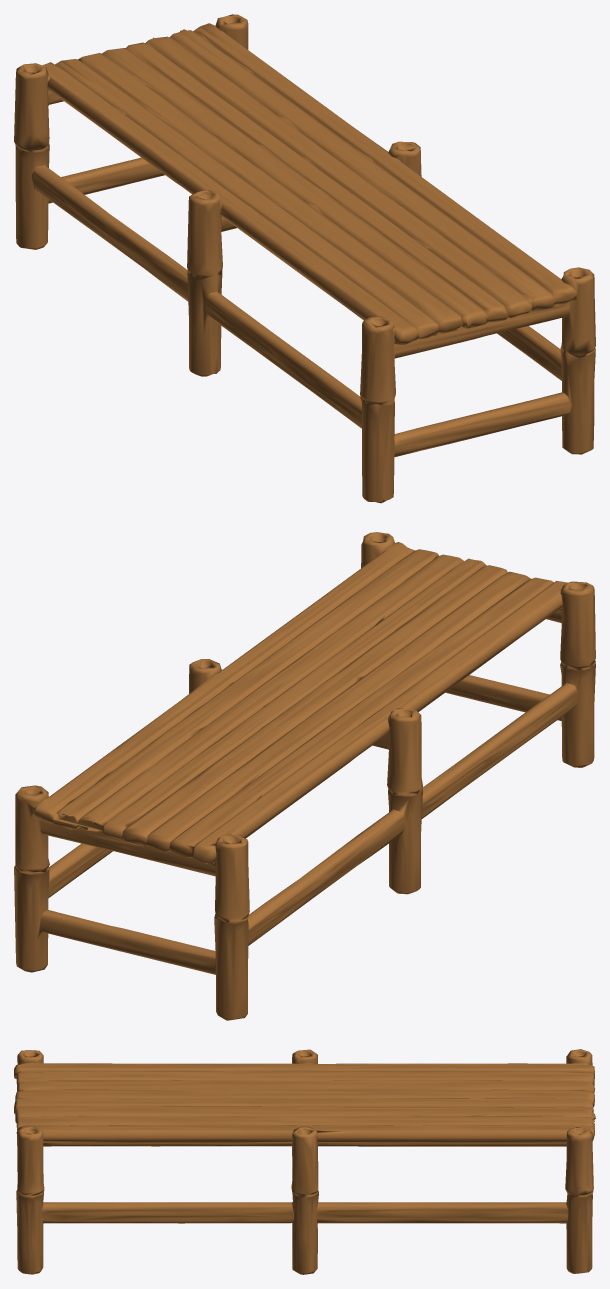
File: sap-thap.9266e3b5.glb
The picture shows the model from 3 angles, top to bottom: view 1: azimuth 30°, elevation 25°; view 2: azimuth 150°, elevation 25°; view 3: azimuth 270°, elevation 25°; orthographic projection. The views are drawn at different scales.
Parts seen in each view (by area): view 1: tripo_node_d542632d-55fe-40aa-a39c-4f9fd28a59b9; view 2: tripo_node_d542632d-55fe-40aa-a39c-4f9fd28a59b9; view 3: tripo_node_d542632d-55fe-40aa-a39c-4f9fd28a59b9.
Part boxes in pixels (x1=…): tripo_node_d542632d-55fe-40aa-a39c-4f9fd28a59b9: x1=14, y1=14, x2=595, y2=503; tripo_node_d542632d-55fe-40aa-a39c-4f9fd28a59b9: x1=14, y1=532, x2=595, y2=1020; tripo_node_d542632d-55fe-40aa-a39c-4f9fd28a59b9: x1=14, y1=1049, x2=595, y2=1274.
Size of the model in its own units: 0.3575 by 0.2605 by 0.9819.
